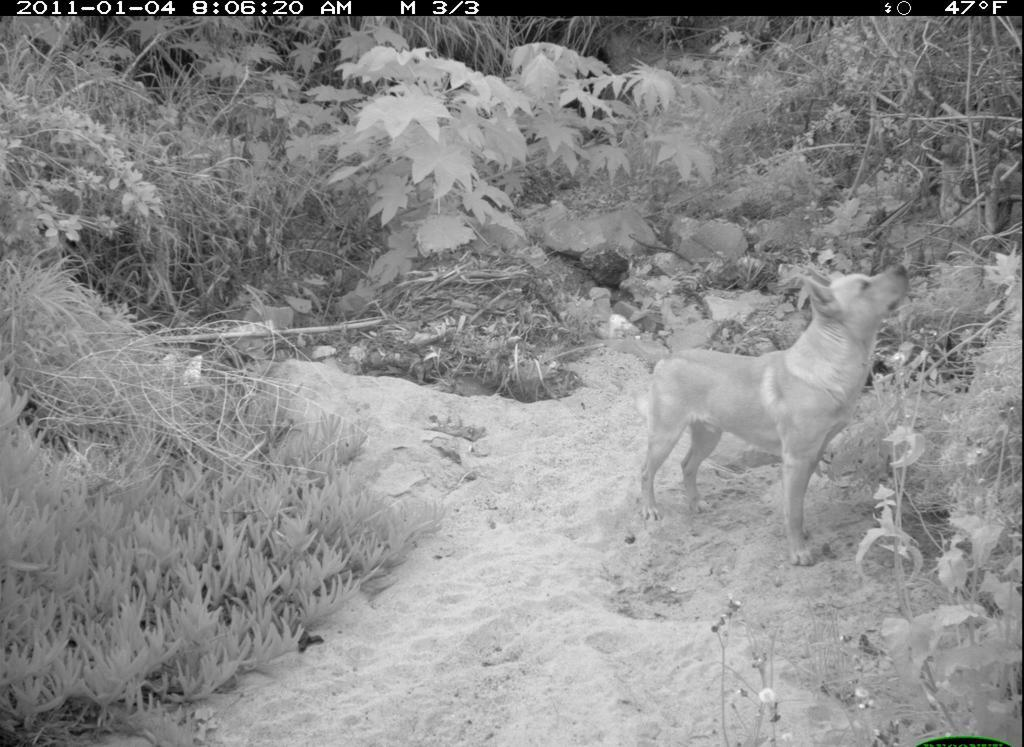dog: (606, 250, 918, 570)
